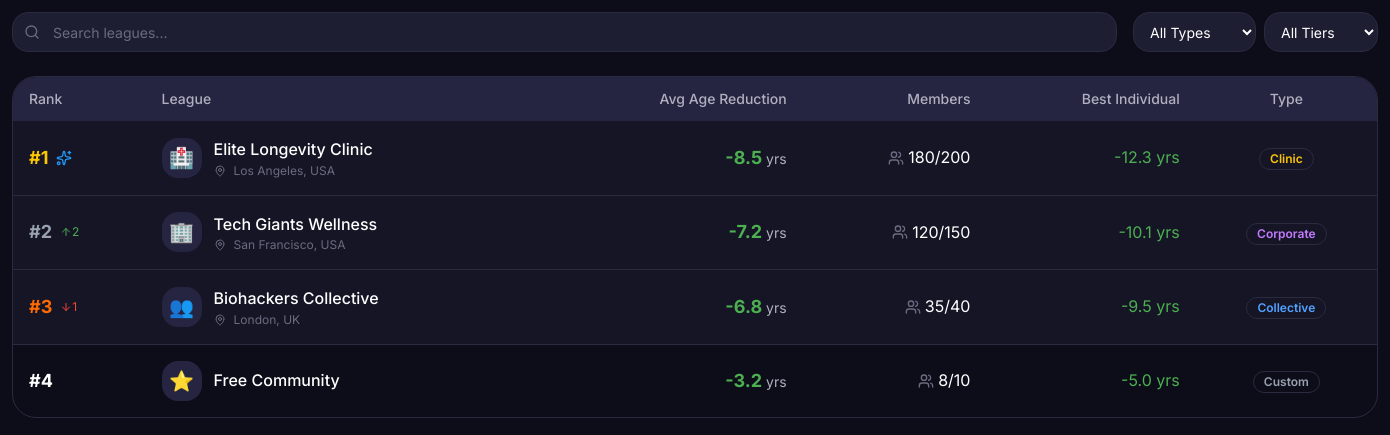
Scenario: LeagueLeaderboardTable › Filters › filters by league tier
Select "Pro" in the 2nd dropdown at (1321, 32), box [1264,12,1378,52]
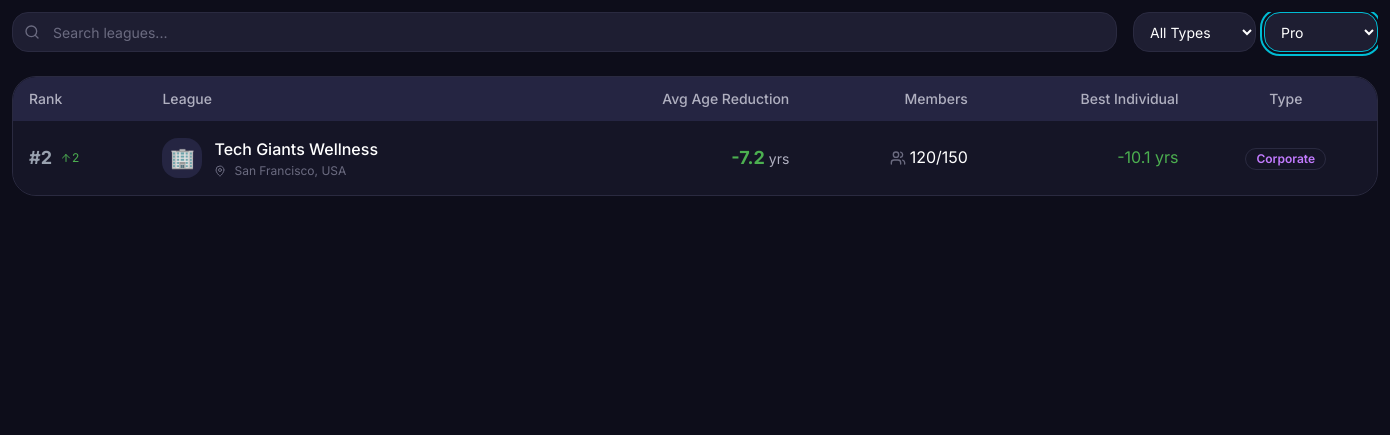
Expected: the text "Tech Giants Wellness" is shown, [214,137,378,163]
Now the text "Elite Longevity Clinic" is gone
